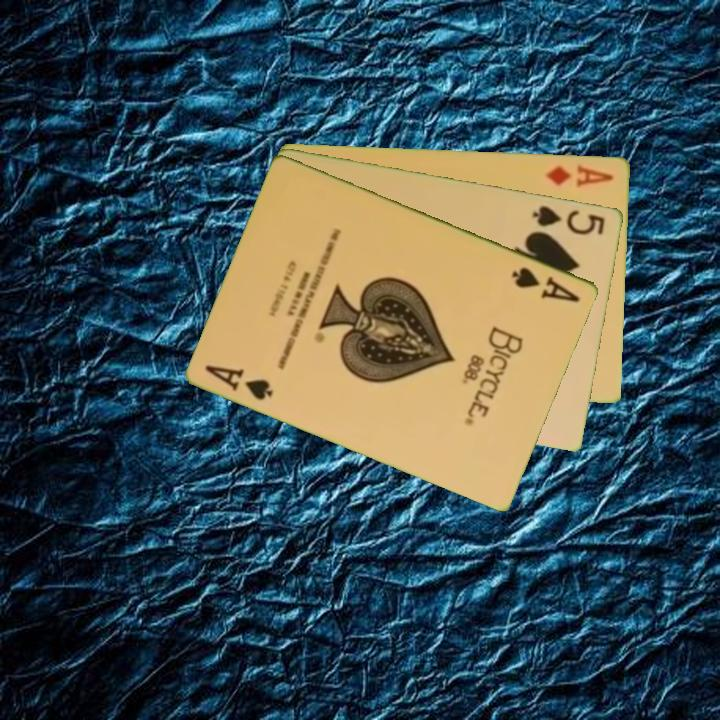5s: (529, 201, 608, 238)
Ad: (543, 161, 617, 190)
As: (201, 361, 277, 403), (509, 263, 584, 305)
